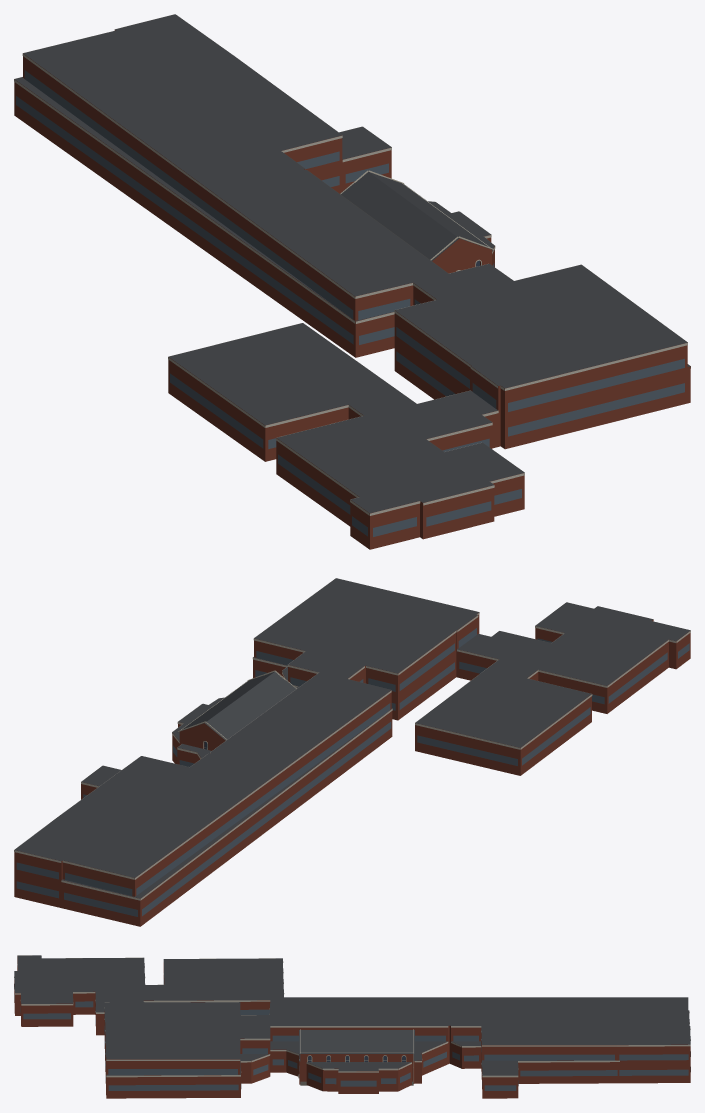
File: greater-second-baptist.glb
3 views of the same model, one above another, from view 1: azimuth 30°, elevation 25°; view 2: azimuth 150°, elevation 25°; view 3: azimuth 270°, elevation 25° (orthographic). The views are drawn at different scales.
Parts seen in each view (by area): view 1: greater_second_baptist; view 2: greater_second_baptist; view 3: greater_second_baptist.
Boxes of the visible parts, x1,y1,x2,y2 form: greater_second_baptist: (14,14,690,549); greater_second_baptist: (14,578,690,926); greater_second_baptist: (14,955,690,1098).
Bounding box in the file's own units: 75.7 × 13.65 × 180.
